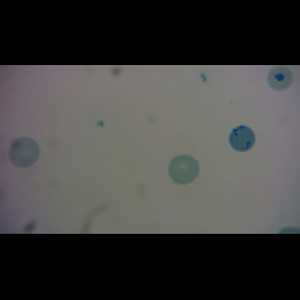aggregate reticulocyte: (228, 124, 257, 153)
erythrocyte: (7, 136, 40, 169), (167, 154, 201, 185), (266, 65, 296, 92)
